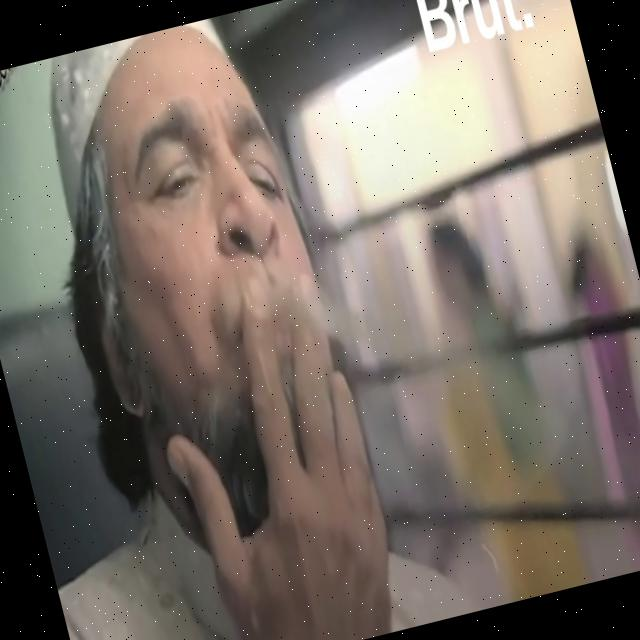spit: (225, 240, 482, 475)
